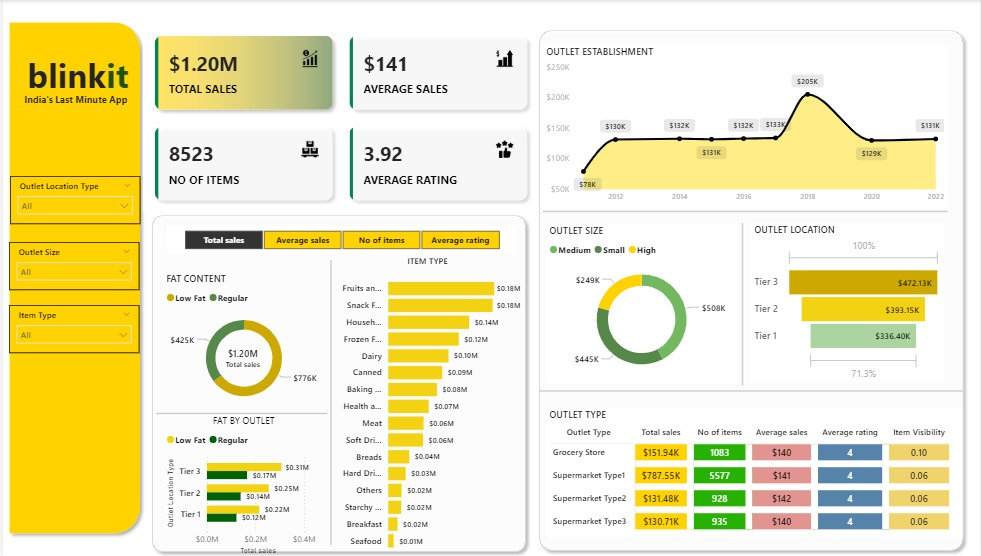

The page's visual inventory and layout, read from the dashboard file:
{"tool":"powerbi","page":{"name":"Page 1","canvas":[1400,800],"ordinal":0},"visuals":[{"type":"shape","box":[0,23,205.5,750.9],"z":0},{"type":"textbox","box":[0,69.3,215.7,80.3],"z":1000},{"type":"textbox","box":[17.3,129.1,174.8,40.9],"z":2000},{"type":"cardVisual","fields":{"Data":["BlinkIT Grocery Data.Total sales","BlinkIT Grocery Data.Average sales","BlinkIT Grocery Data.No of items","BlinkIT Grocery Data.Average rating"]},"box":[200,34,568,270],"z":3000},{"type":"shape","box":[205.3,299.2,553.4,500.6],"z":4000},{"type":"donutChart","title":"FAT CONTENT","fields":{"Y":["BlinkIT Grocery Data.Total sales"],"Category":["BlinkIT Grocery Data.Item Fat Content"]},"box":[230,390,232,202],"z":5000},{"type":"slicer","fields":{"Values":["Metrics.Metrics"]},"box":[234.6,324.6,500.6,39.1],"z":6000},{"type":"cardVisual","fields":{"Data":["BlinkIT Grocery Data.Total sales"]},"box":[301.7,480,86.7,51.7],"z":7000},{"type":"clusteredBarChart","title":"FAT BY OUTLET","fields":{"Y":["BlinkIT Grocery Data.Total sales"],"Category":["BlinkIT Grocery Data.Outlet Location Type"],"Series":["BlinkIT Grocery Data.Item Fat Content"]},"box":[230,594,232,206],"z":8000},{"type":"shape","box":[220,584.3,245.7,15.7],"z":9000},{"type":"shape","box":[454.3,372.9,31.4,408.6],"z":10000},{"type":"barChart","title":"ITEM TYPE","fields":{"Y":["BlinkIT Grocery Data.Total sales"],"Category":["BlinkIT Grocery Data.Item Type"]},"box":[470,365.7,277.1,434.3],"z":11000},{"type":"shape","box":[760,34,626,764],"z":12000},{"type":"lineChart","title":"OUTLET ESTABLISHMENT","fields":{"Category":["BlinkIT Grocery Data.Outlet Establishment Year"],"Y":["BlinkIT Grocery Data.Total sales"]},"box":[774,64,580,235],"z":13000},{"type":"shape","box":[774.3,295.7,580,15.7],"z":14000},{"type":"donutChart","title":"OUTLET SIZE","fields":{"Y":["BlinkIT Grocery Data.Total sales"],"Category":["BlinkIT Grocery Data.Outlet Size"]},"box":[778.6,321.4,274.3,228.6],"z":15000},{"type":"shape","box":[1048.6,320,24.3,232.9],"z":16000},{"type":"funnel","title":"OUTLET LOCATION","fields":{"Y":["BlinkIT Grocery Data.Total sales"],"Category":["BlinkIT Grocery Data.Outlet Location Type"]},"box":[1072.9,320,277.1,230],"z":17000},{"type":"shape","box":[768.6,550,607.1,20],"z":18000},{"type":"pivotTable","title":"OUTLET TYPE","fields":{"Values":["BlinkIT Grocery Data.Total sales","BlinkIT Grocery Data.No of items","BlinkIT Grocery Data.Average sales","BlinkIT Grocery Data.Average rating","Avg(BlinkIT Grocery Data.Item Visibility)"],"Rows":["BlinkIT Grocery Data.Outlet Type"]},"box":[778.6,584.3,597.1,185.7],"z":19000},{"type":"slicer","fields":{"Values":["BlinkIT Grocery Data.Outlet Location Type"]},"box":[10,252.9,187.1,68.6],"z":20000},{"type":"slicer","fields":{"Values":["BlinkIT Grocery Data.Outlet Size"]},"box":[8.6,347.1,187.1,68.6],"z":21000},{"type":"slicer","fields":{"Values":["BlinkIT Grocery Data.Item Type"]},"box":[8.6,437.1,187.1,68.6],"z":22000}]}

Visuals, with their boxes in screenshot pixels (x1, y1, x2, y2), scaled from the page's 1400x800 canvas onto the 981x556 screenshot:
shape: box=[0, 16, 144, 538]
textbox: box=[0, 48, 151, 104]
textbox: box=[12, 90, 135, 118]
cardVisual - BlinkIT Grocery Data.Total sales x BlinkIT Grocery Data.Average sales: box=[140, 24, 538, 211]
shape: box=[144, 208, 532, 555]
"FAT CONTENT" donutChart: box=[161, 271, 324, 411]
slicer - Metrics.Metrics: box=[164, 226, 515, 253]
cardVisual - BlinkIT Grocery Data.Total sales: box=[211, 334, 272, 370]
"FAT BY OUTLET" clusteredBarChart: box=[161, 413, 324, 555]
shape: box=[154, 406, 326, 417]
shape: box=[318, 259, 340, 543]
"ITEM TYPE" barChart: box=[329, 254, 524, 555]
shape: box=[533, 24, 971, 555]
"OUTLET ESTABLISHMENT" lineChart: box=[542, 44, 949, 208]
shape: box=[543, 206, 949, 216]
"OUTLET SIZE" donutChart: box=[546, 223, 738, 382]
shape: box=[735, 222, 752, 384]
"OUTLET LOCATION" funnel: box=[752, 222, 946, 382]
shape: box=[539, 382, 964, 396]
"OUTLET TYPE" pivotTable: box=[546, 406, 964, 535]
slicer - BlinkIT Grocery Data.Outlet Location Type: box=[7, 176, 138, 223]
slicer - BlinkIT Grocery Data.Outlet Size: box=[6, 241, 137, 289]
slicer - BlinkIT Grocery Data.Item Type: box=[6, 304, 137, 351]
